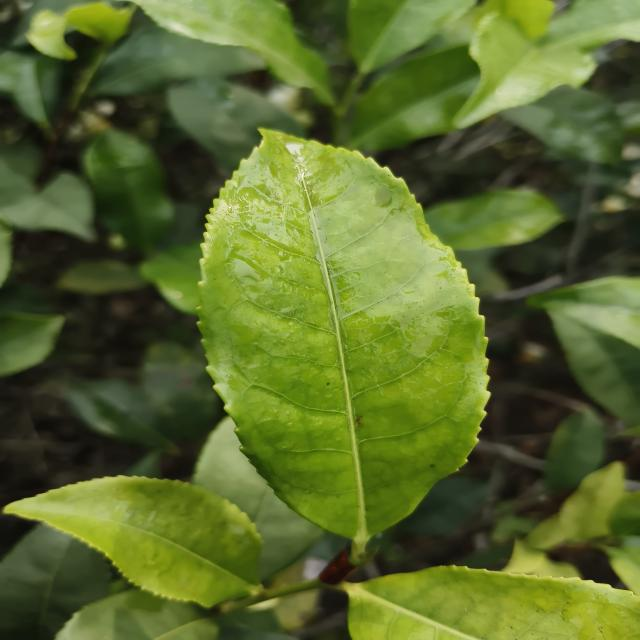Leaf: (199, 130, 487, 546), (5, 476, 262, 607), (345, 566, 640, 640), (133, 0, 334, 104), (454, 12, 596, 128), (349, 45, 479, 151), (0, 524, 111, 640), (166, 78, 303, 171), (90, 26, 264, 96), (83, 129, 174, 253), (549, 312, 640, 427), (501, 86, 623, 164), (348, 0, 474, 74), (0, 152, 96, 242), (424, 189, 563, 251), (55, 590, 218, 640), (528, 277, 640, 348), (142, 342, 220, 440), (67, 379, 171, 448), (26, 2, 132, 60), (399, 477, 489, 536), (543, 408, 604, 493), (557, 462, 624, 537), (0, 312, 64, 376), (57, 259, 146, 295)
